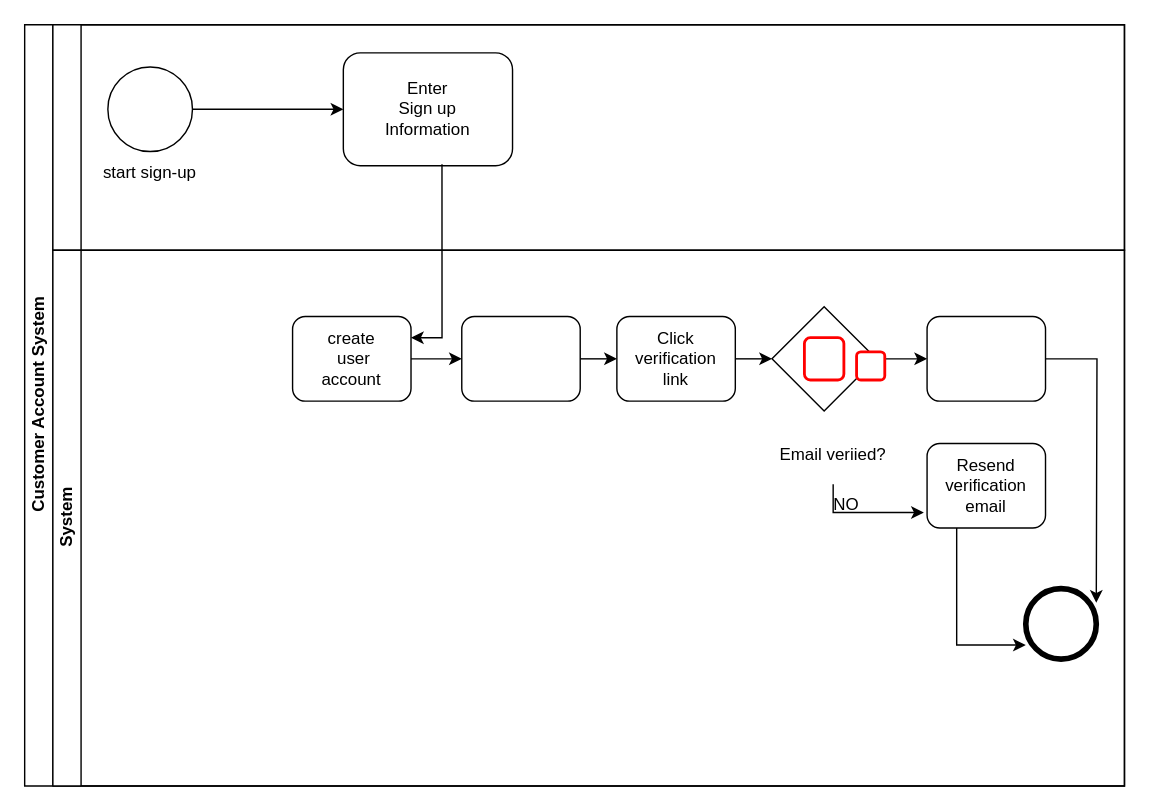
Some shapes in this 1149 by 811 pixel diagram are drawn without their labels. The box of each missing label's shape, as (x1, y1, x2, y2) in pixels:
Activate account: (926, 315, 1046, 401)
Customer: (51, 23, 1124, 250)
Send verification email: (460, 315, 580, 401)
